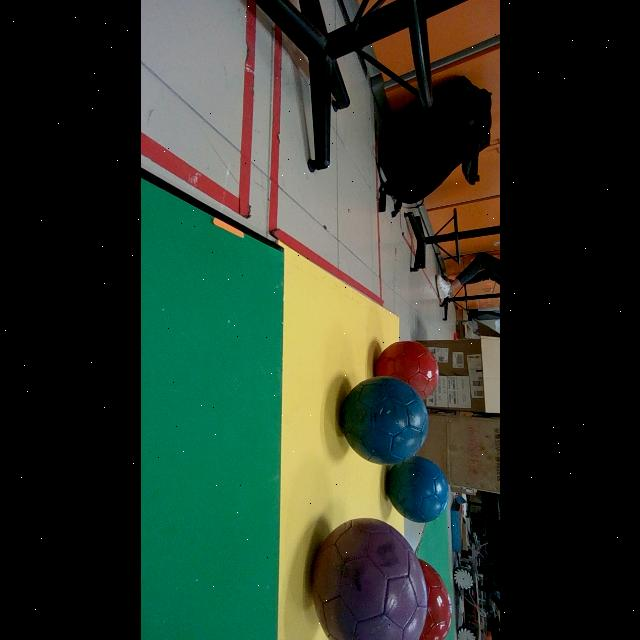B: (341, 376, 428, 464), (387, 456, 449, 522)
P: (312, 518, 427, 640)
R: (376, 343, 437, 400), (418, 559, 451, 640)
